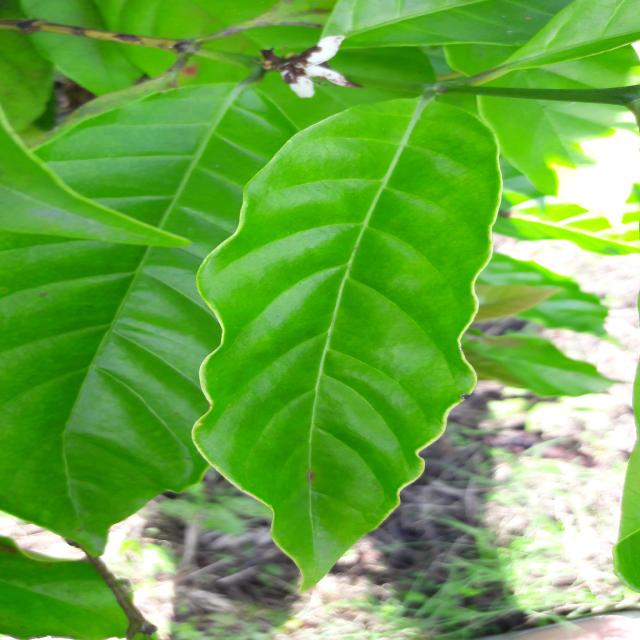Sanas: (192, 99, 506, 595)
